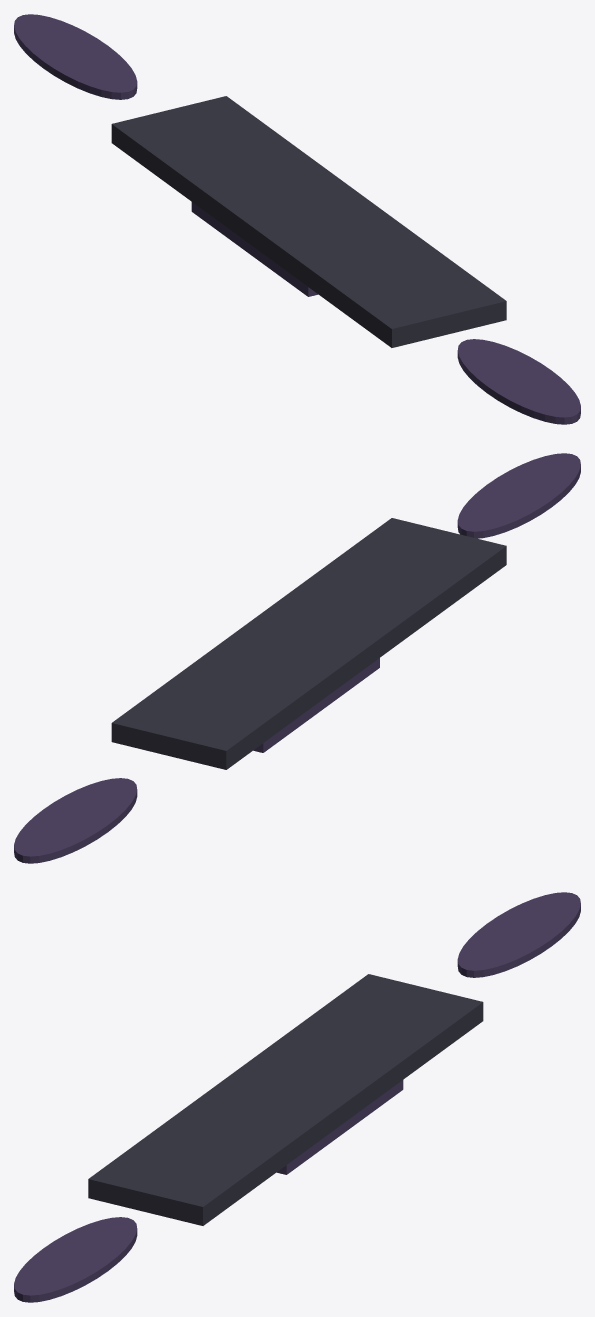
Rendered from CH_IsobathFrigate_LOD1.glb.
3 renders of one model, top to bottom at view 1: azimuth 30°, elevation 25°; view 2: azimuth 150°, elevation 25°; view 3: azimuth 330°, elevation 25°, orthographic.
Parts seen in each view (by area): view 1: Cube.001, Cylinder, Cylinder.001, Cube; view 2: Cube.001, Cylinder.001, Cylinder, Cube; view 3: Cube.001, Cylinder, Cylinder.001, Cube.
Part boxes in pixels (box(x1,y1,x2,y2)): Cube.001: box(111, 96, 506, 347); Cylinder: box(457, 339, 580, 424); Cylinder.001: box(14, 14, 137, 99); Cube: box(191, 202, 318, 296); Cube.001: box(111, 518, 506, 769); Cylinder.001: box(14, 778, 137, 863); Cylinder: box(457, 453, 580, 538); Cube: box(253, 658, 379, 752); Cube.001: box(88, 974, 483, 1225); Cylinder: box(14, 1217, 137, 1302); Cylinder.001: box(457, 892, 580, 977); Cube: box(276, 1080, 403, 1174).
Size of what is drawn, in the model's own units: 3.52 by 1.47 by 29.14.
